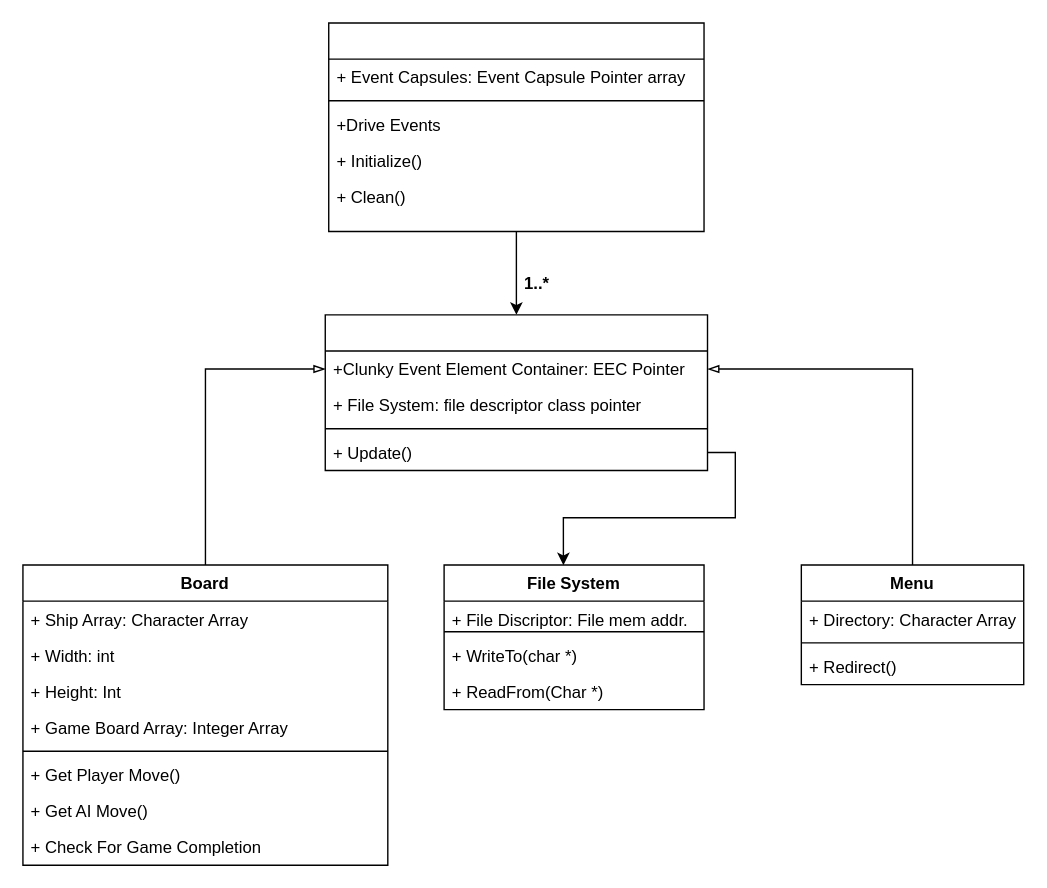
The diagram is 1047 pixels wide and 888 high, and some of its shapes have lost their labels. The shapes that lost their labels are listed below. From the top down, each one's box as (x1, y1, x2, y2) in pixels, then its label:
(327, 22, 704, 231): Event Driver
(324, 313, 708, 471): Event Capsule
